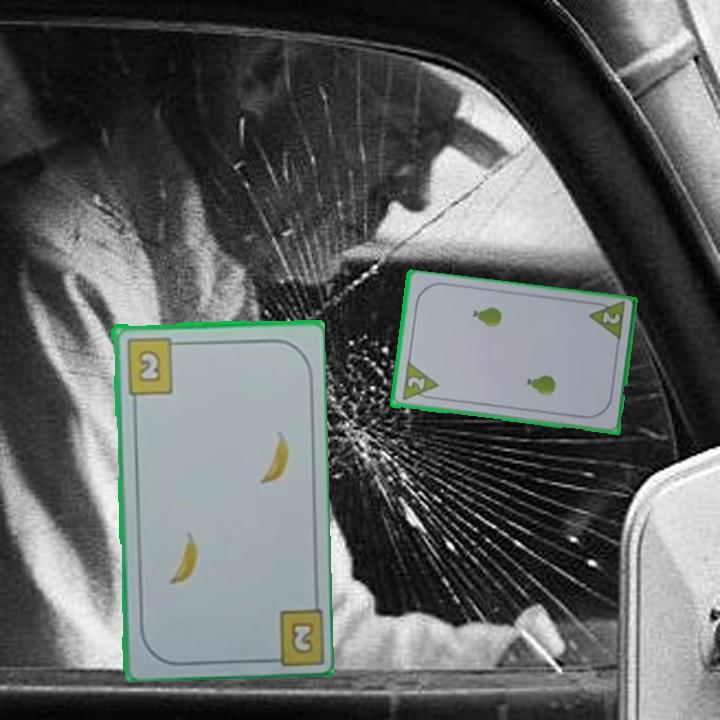2b: (122, 334, 184, 396), (287, 617, 316, 657)
2p: (585, 298, 628, 344), (398, 360, 441, 404)
